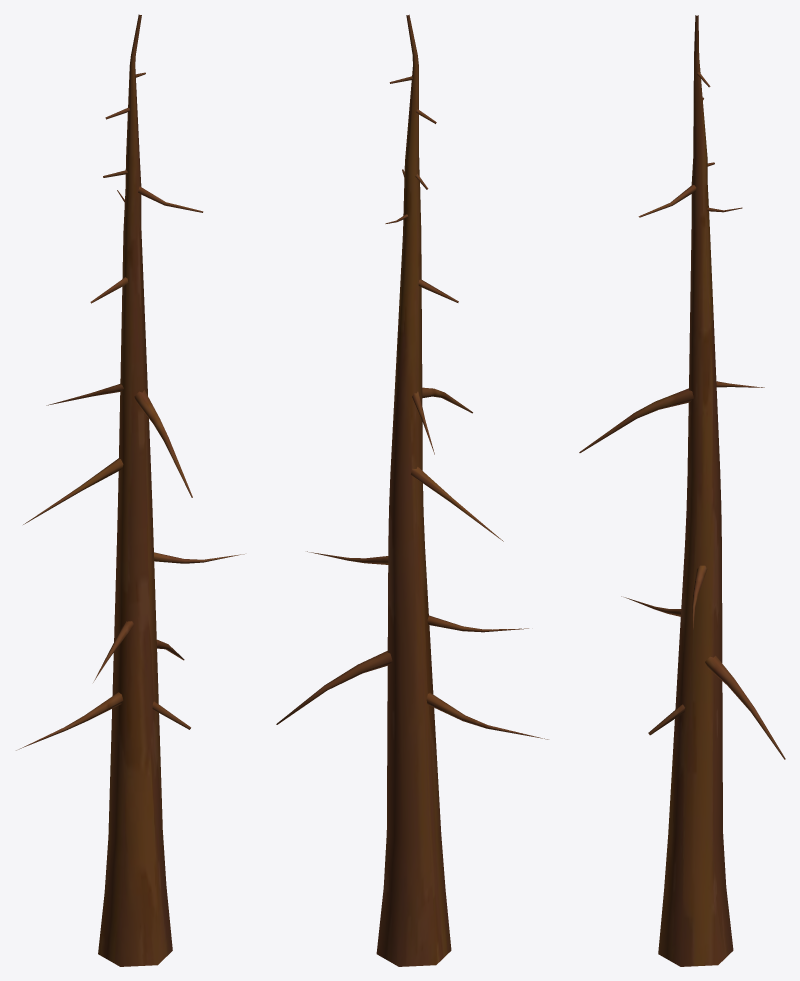
File: STPine5.glb
3 renders of one model, left to right at view 1: azimuth 30°, elevation 25°; view 2: azimuth 150°, elevation 25°; view 3: azimuth 270°, elevation 25°, orthographic.
Parts seen in each view (by area): view 1: STPine5_Trunk; view 2: STPine5_Trunk; view 3: STPine5_Trunk.
Boxes of the visible parts, bbox=[...] form: STPine5_Trunk: bbox=[16, 14, 244, 966]; STPine5_Trunk: bbox=[276, 14, 548, 966]; STPine5_Trunk: bbox=[579, 15, 785, 966].
Bounding box in the file's own units: 3.39 × 12.62 × 2.51.
1 material, 1 textured.
